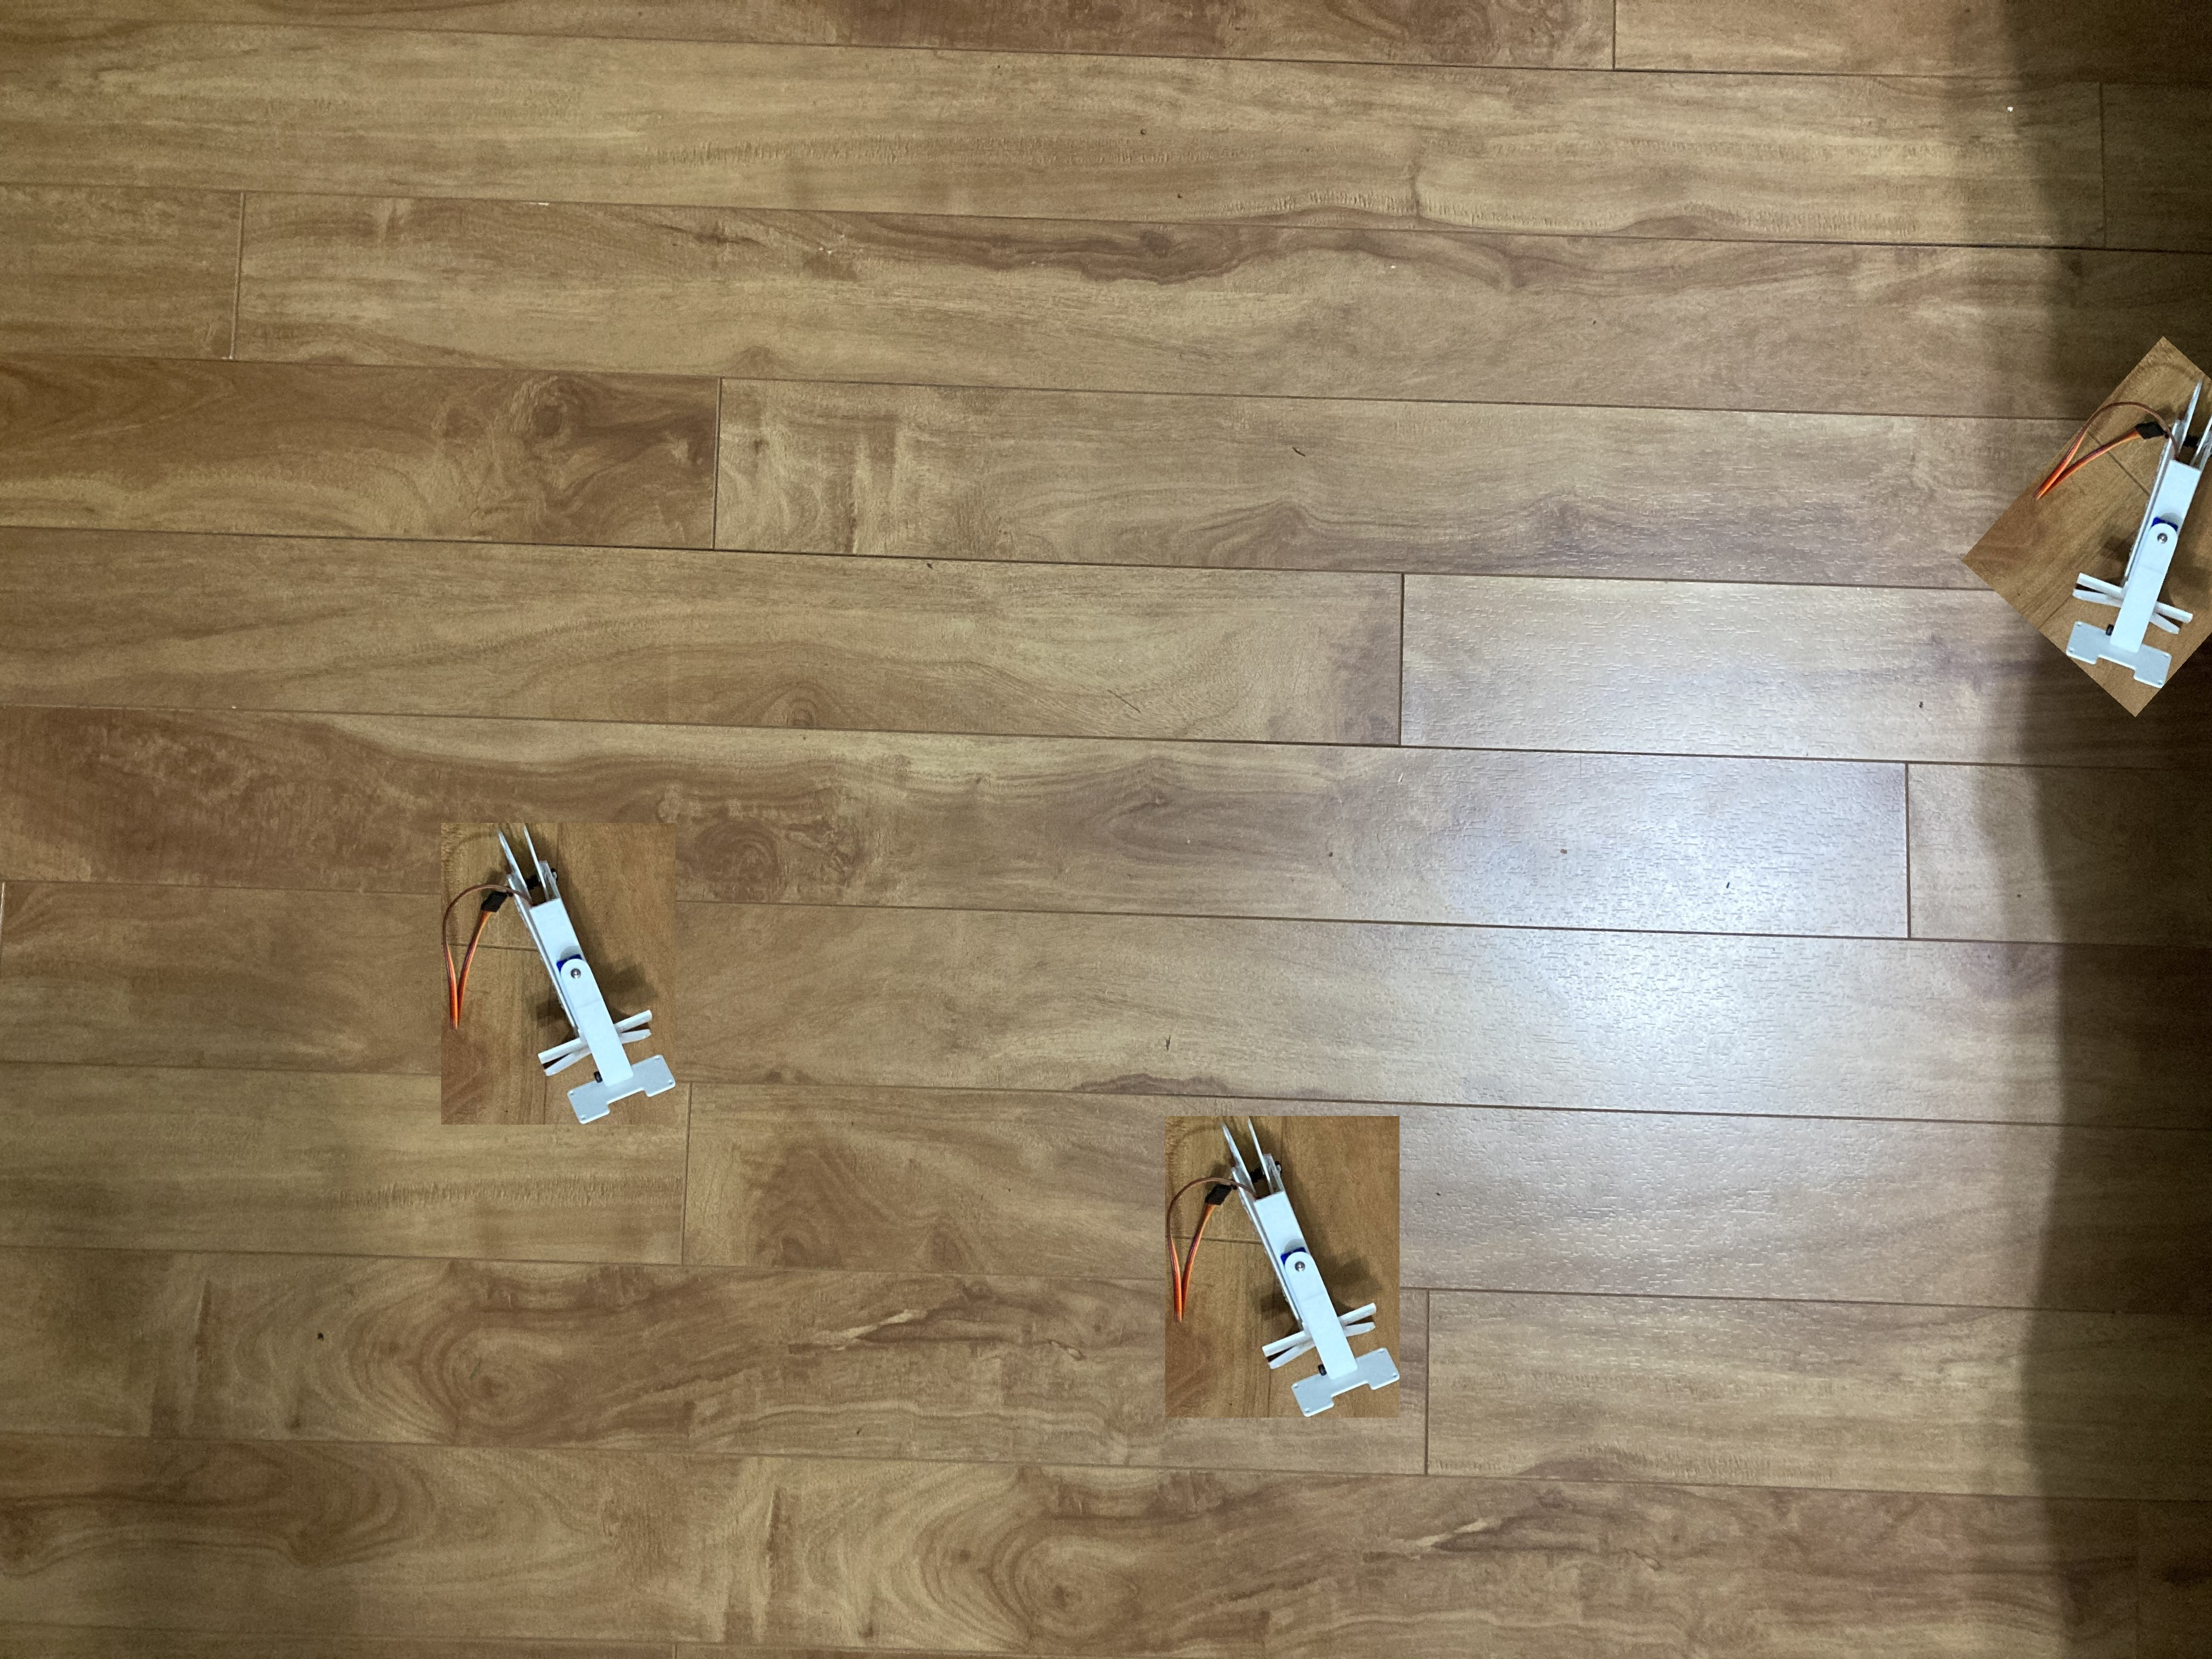robot: (465, 816, 690, 1138), (1205, 1108, 1425, 1434), (2067, 373, 2212, 723)
